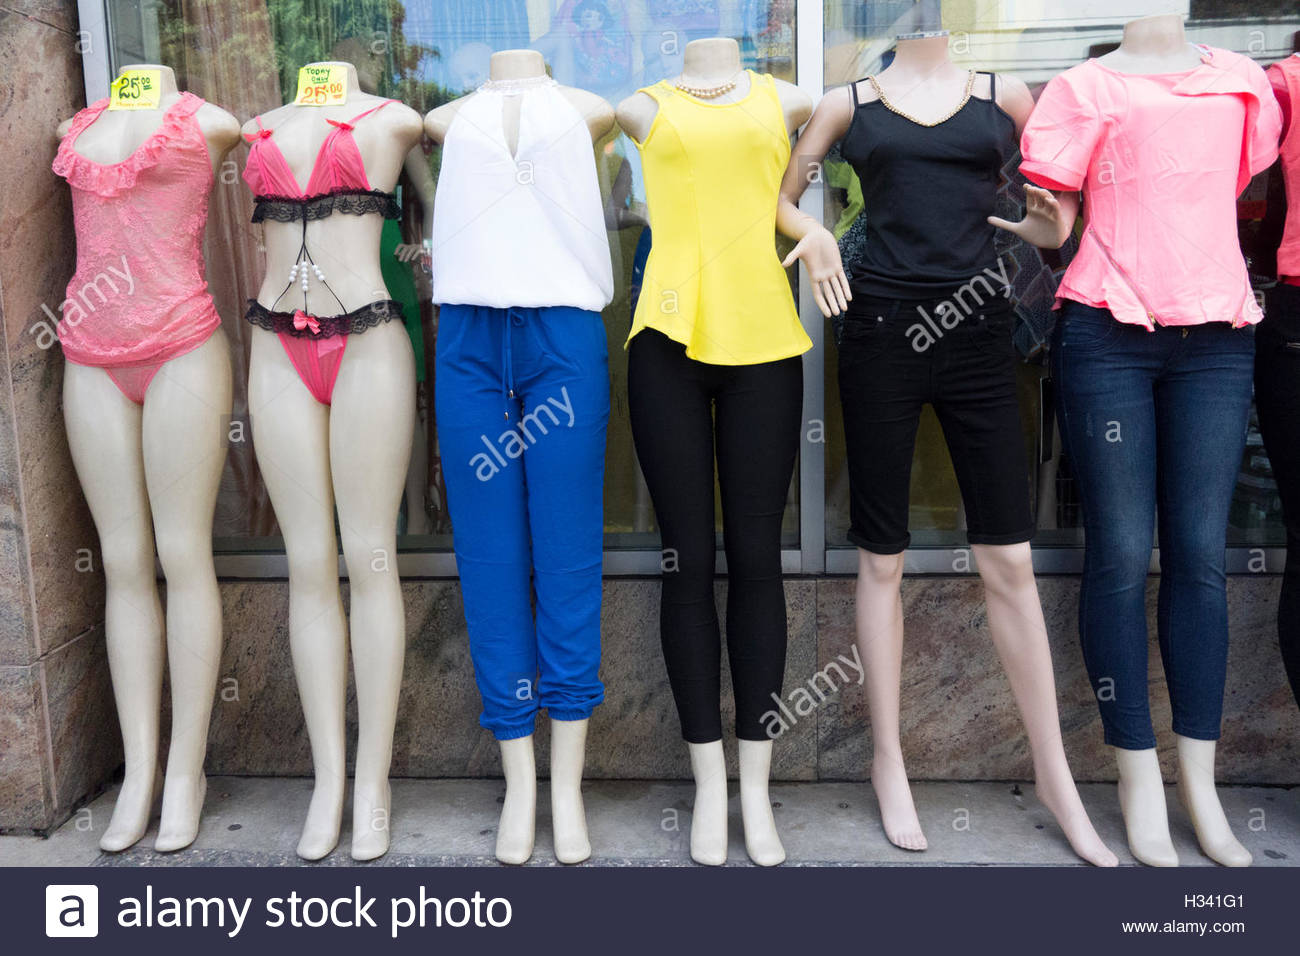person-like: (774, 21, 1126, 867), (1015, 5, 1288, 867), (610, 30, 817, 870), (416, 39, 624, 866), (48, 47, 242, 861), (239, 51, 424, 860)
